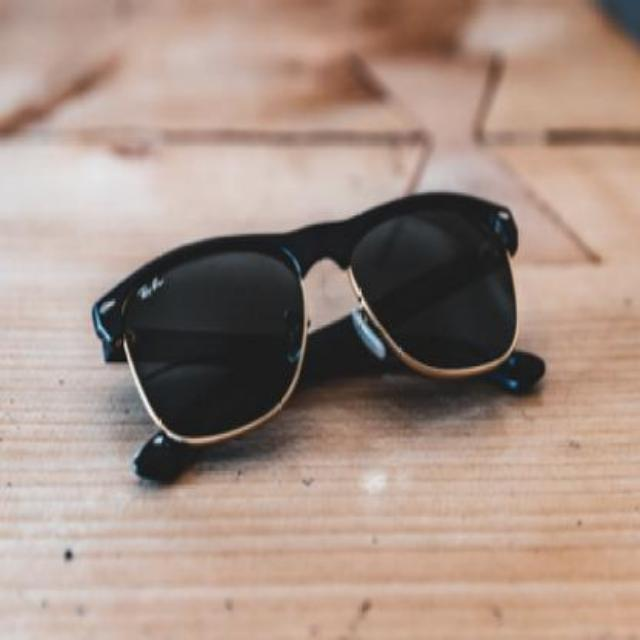glasses: (90, 190, 546, 486)
